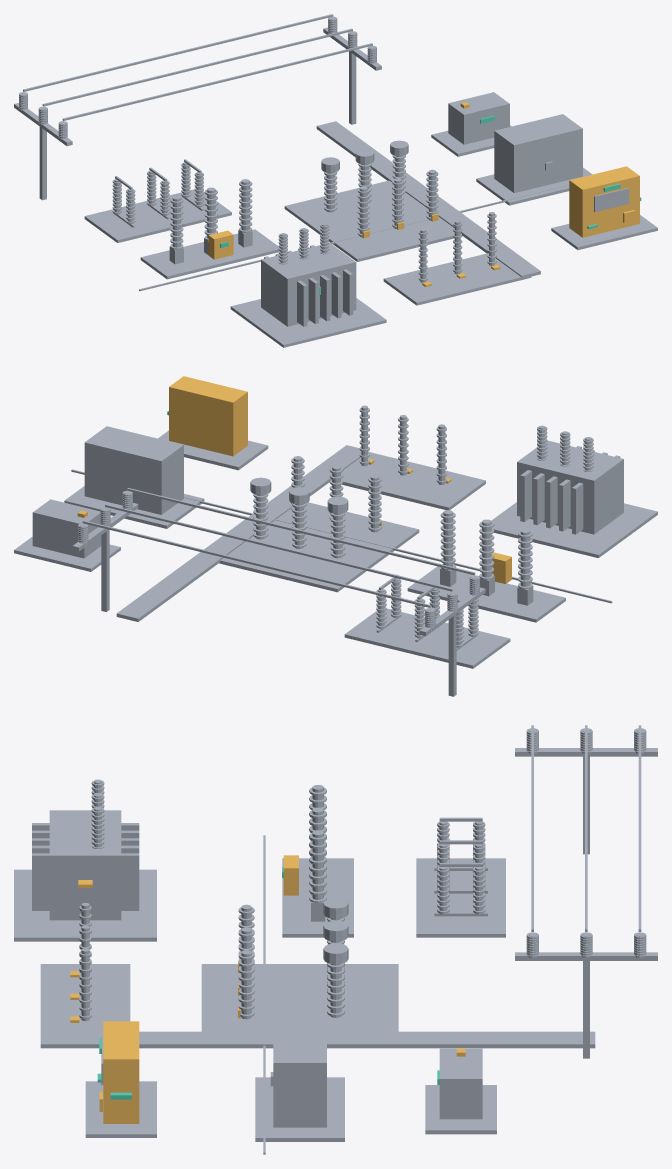
The model's file is substation-concept.gltf.
3 views of the same model, one above another, from view 1: azimuth 30°, elevation 25°; view 2: azimuth 150°, elevation 25°; view 3: azimuth 270°, elevation 25° (orthographic). The views are drawn at different scales.
Parts seen in each view (by area): view 1: CIV01 Foundations and bund (×8), MV01 MV cubicle and arc containment, TX01 Tank and oil containment, CIV03 Cable trench cover, CTRL01 Cabinet enclosure, BUS01 Bus conductors and clamps (×3), AUX01 Battery cells and charger, BUS03 Steel support structures (×2), CIV02 Earthing conductor and bonds, CB03 Mechanism cabinet shell, CTRL02 Relay / IED and terminals; view 2: CIV01 Foundations and bund (×8), MV01 MV cubicle and arc containment, CTRL01 Cabinet enclosure, TX01 Tank and oil containment, CIV03 Cable trench cover, BUS01 Bus conductors and clamps (×3), TX03 Radiator and cooling circuit (×5), AUX01 Battery cells and charger, BUS03 Steel support structures (×4), CIV02 Earthing conductor and bonds, CB03 Mechanism cabinet shell; view 3: CIV01 Foundations and bund (×8), CIV03 Cable trench cover, TX01 Tank and oil containment, MV01 MV cubicle and arc containment, CTRL01 Cabinet enclosure, AUX01 Battery cells and charger, BUS03 Steel support structures (×3), TX03 Radiator and cooling circuit (×2), BUS01 Bus conductors and clamps (×3), CIV02 Earthing conductor and bonds, CB03 Mechanism cabinet shell.
Boxes of the visible parts, <box> form: CIV01 Foundations and bund (×8): <box>84,125,657,347</box>; MV01 MV cubicle and arc containment: <box>494,114,582,193</box>; TX01 Tank and oil containment: <box>261,243,356,326</box>; CIV03 Cable trench cover: <box>316,121,540,277</box>; CTRL01 Cabinet enclosure: <box>569,166,639,237</box>; BUS01 Bus conductors and clamps (×3): <box>23,14,372,120</box>; AUX01 Battery cells and charger: <box>448,92,509,144</box>; BUS03 Steel support structures (×2): <box>39,51,356,200</box>; CIV02 Earthing conductor and bonds: <box>139,184,569,291</box>; CB03 Mechanism cabinet shell: <box>208,230,233,259</box>; CTRL02 Relay / IED and terminals: <box>594,187,629,211</box>; CIV01 Foundations and bund (×8): <box>14,430,657,668</box>; MV01 MV cubicle and arc containment: <box>84,426,183,514</box>; CTRL01 Cabinet enclosure: <box>169,376,247,456</box>; TX01 Tank and oil containment: <box>517,440,623,534</box>; CIV03 Cable trench cover: <box>116,445,368,621</box>; BUS01 Bus conductors and clamps (×3): <box>82,488,475,607</box>; TX03 Radiator and cooling circuit (×5): <box>520,470,583,534</box>; AUX01 Battery cells and charger: <box>32,499,101,558</box>; BUS03 Steel support structures (×4): <box>72,503,485,696</box>; CIV02 Earthing conductor and bonds: <box>71,469,612,603</box>; CB03 Mechanism cabinet shell: <box>491,552,511,584</box>; CIV01 Foundations and bund (×8): <box>14,858,505,1141</box>; CIV03 Cable trench cover: <box>40,1031,595,1048</box>; TX01 Tank and oil containment: <box>49,810,121,920</box>; MV01 MV cubicle and arc containment: <box>273,1017,326,1127</box>; CTRL01 Cabinet enclosure: <box>103,1021,139,1123</box>; AUX01 Battery cells and charger: <box>439,1048,482,1119</box>; BUS03 Steel support structures (×3): <box>515,748,657,1058</box>; TX03 Radiator and cooling circuit (×2): <box>32,853,139,910</box>; BUS01 Bus conductors and clamps (×3): <box>531,725,641,931</box>; CIV02 Earthing conductor and bonds: <box>263,835,265,1154</box>; CB03 Mechanism cabinet shell: <box>283,855,298,895</box>.
Size of the model in its own units: 42 by 7.97 by 36.
